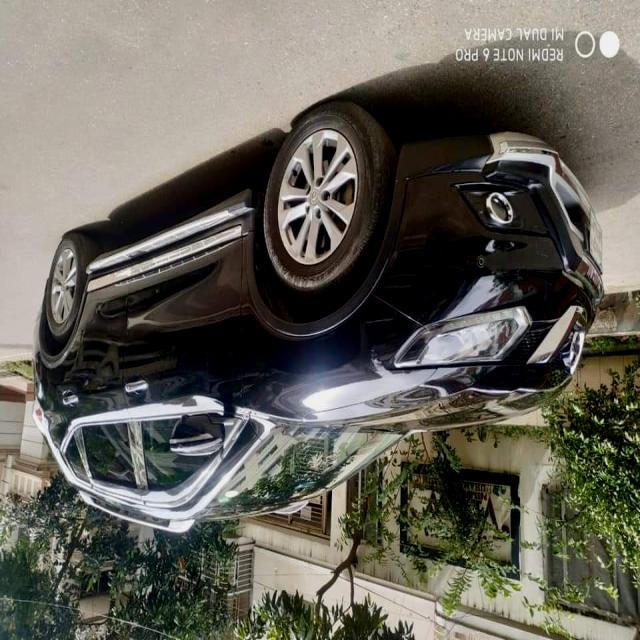black: (11, 159, 614, 522)
